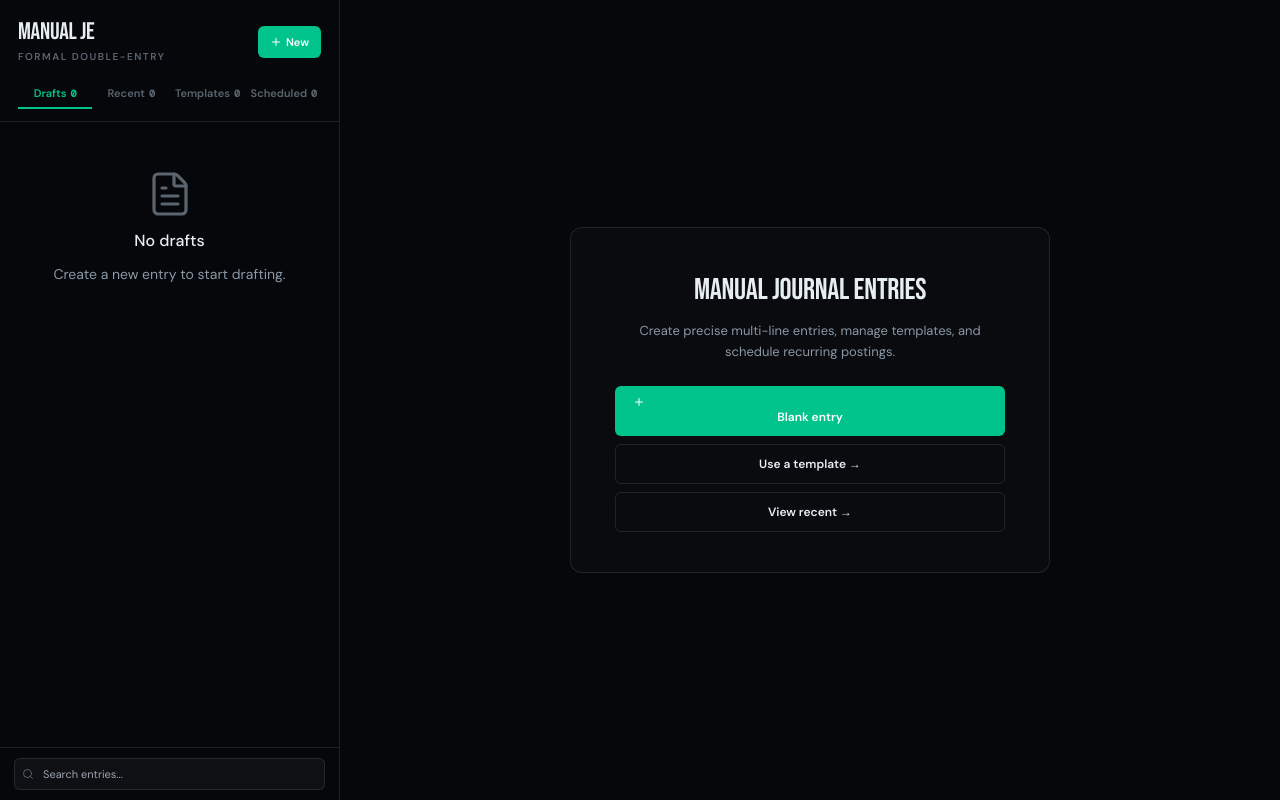
Test: ManualJEScreen — Source dropdown enum case (HASEEB-466) › renders source <option> values that exactly match the backend EntrySource enum
The width and height of the screenshot is (1280, 800).
# Click "New blank" to mount the composer.
Click the button "Blank entry". click: (810, 411)
box: [615,386,1005,436]
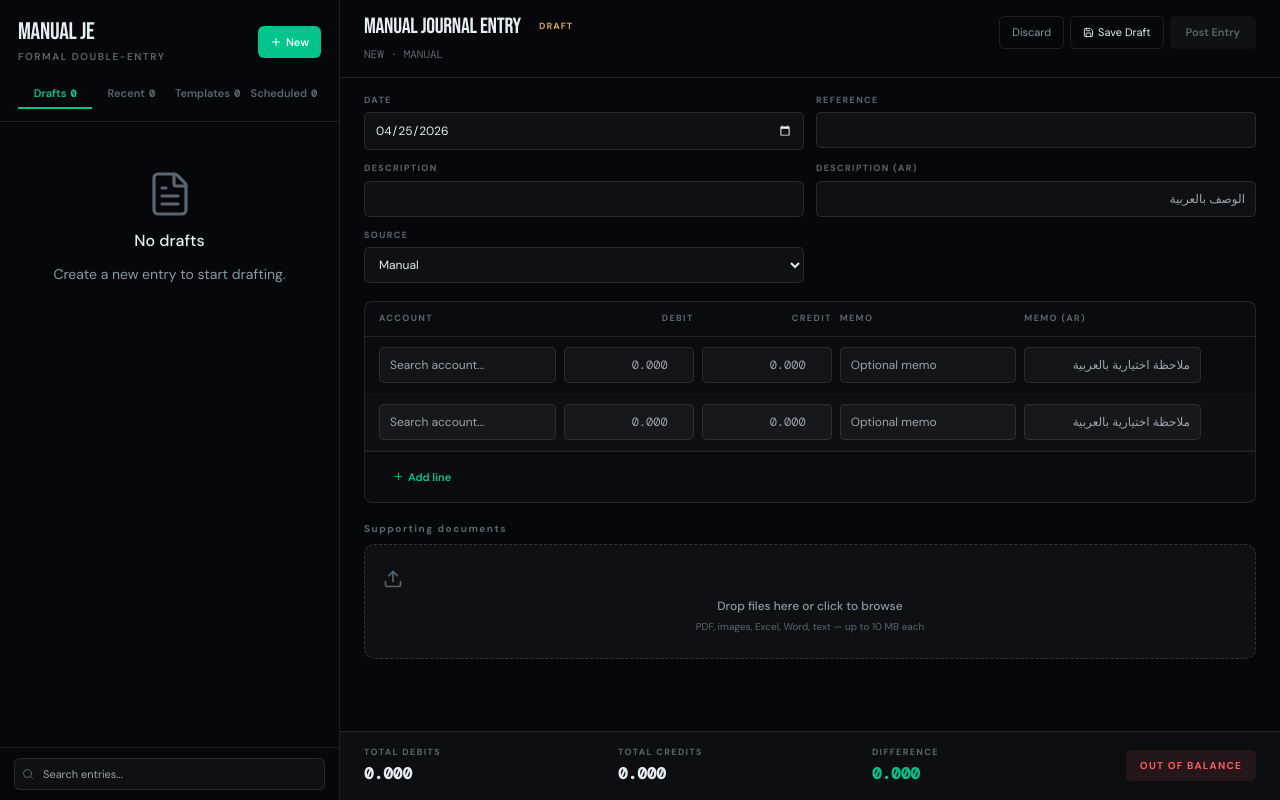
Result: the dropdown shows "Manual" at [364,247,804,283]
